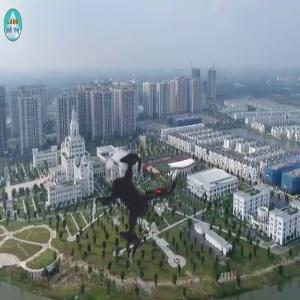drone: (50, 112, 228, 290)
